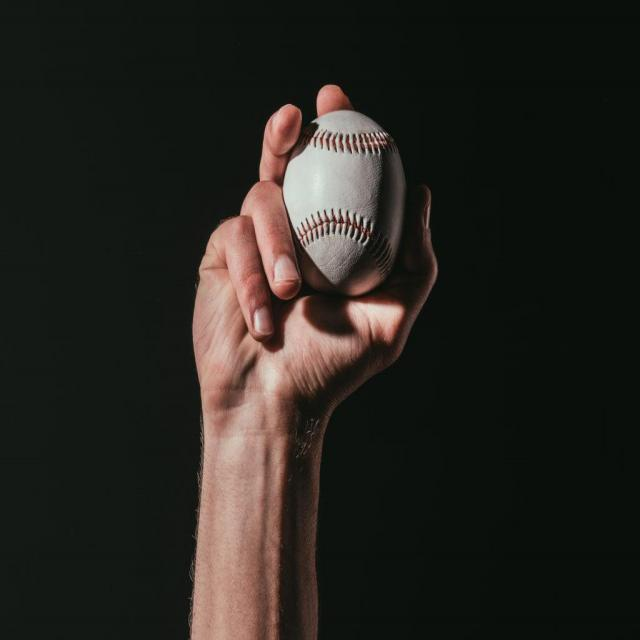baseball: (283, 107, 405, 296)
